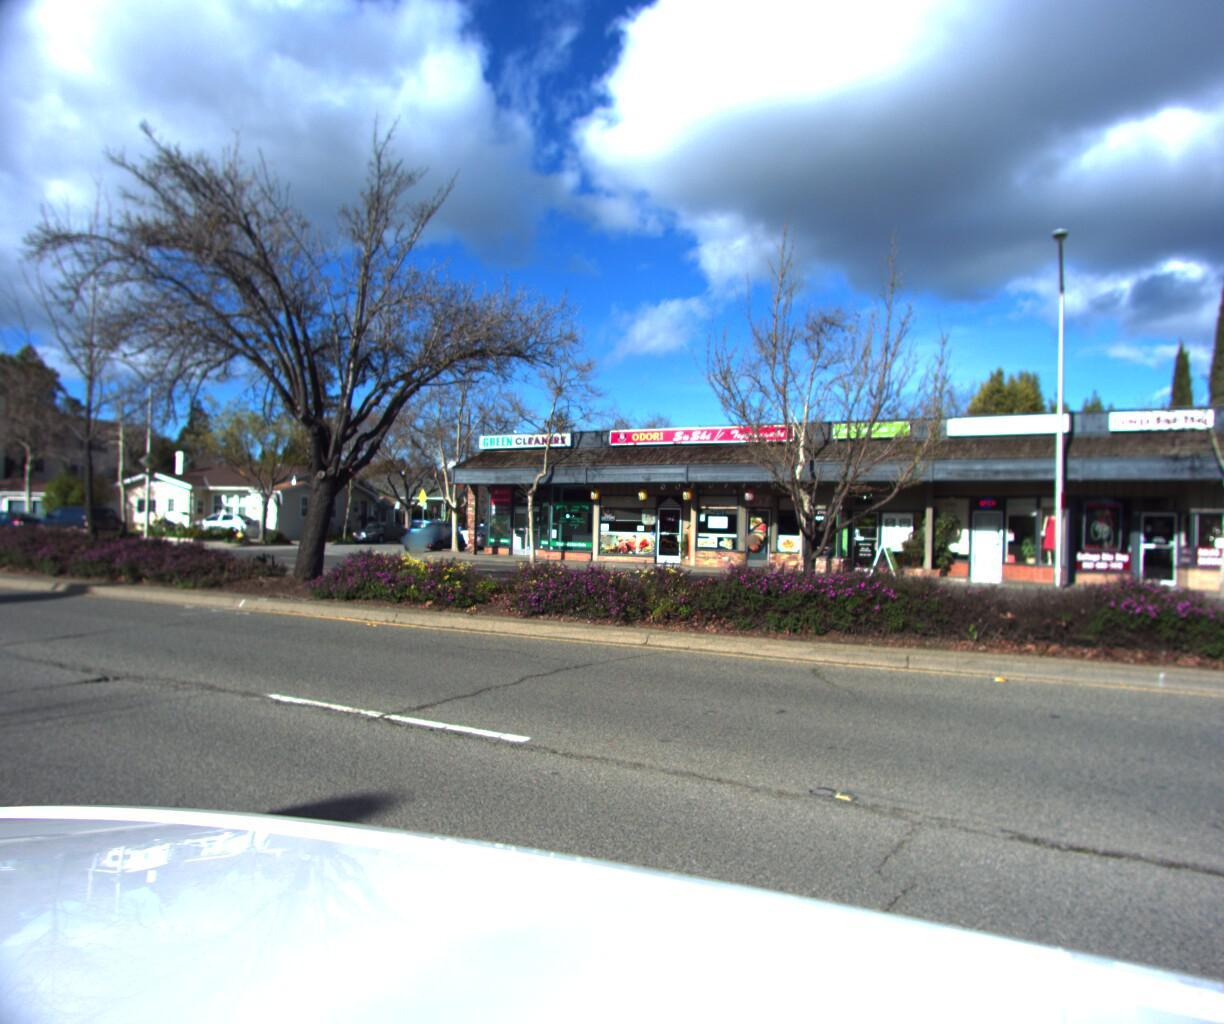car: (32, 510, 126, 548), (397, 522, 471, 555), (182, 515, 270, 542), (448, 527, 515, 555), (346, 524, 415, 547)
